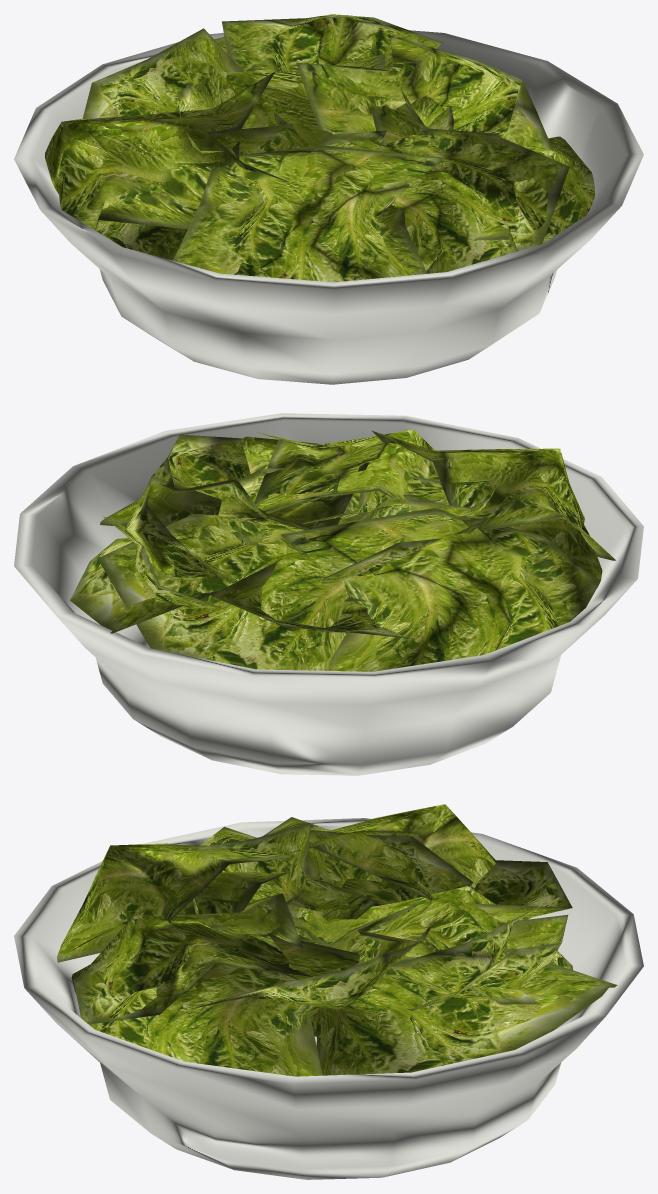
File: salad.fbx
3 views of the same model, one above another, from view 1: azimuth 30°, elevation 25°; view 2: azimuth 150°, elevation 25°; view 3: azimuth 270°, elevation 25° (orthographic).
Visible parts, largest first — view 1: FACESET_Salad1; view 2: FACESET_Salad1; view 3: FACESET_Salad1.
Part boxes in pixels (x1,y1,x2,y2): FACESET_Salad1: [14, 14, 643, 384]; FACESET_Salad1: [14, 413, 643, 775]; FACESET_Salad1: [14, 804, 643, 1179].
Size of the model in its own units: 8.92 by 3.29 by 8.92.
